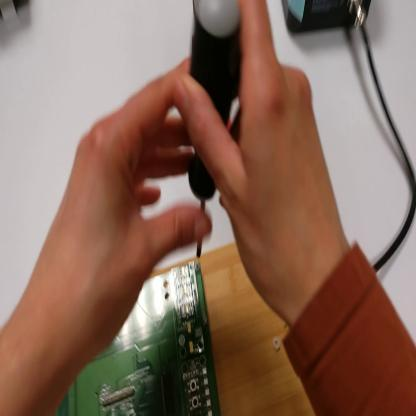hand: (42, 61, 214, 360), (183, 3, 345, 315)
low voltage board: (53, 261, 221, 415)
screwdriver-: (191, 2, 248, 265)
welder station: (282, 1, 372, 37)
working area: (148, 244, 316, 415)
